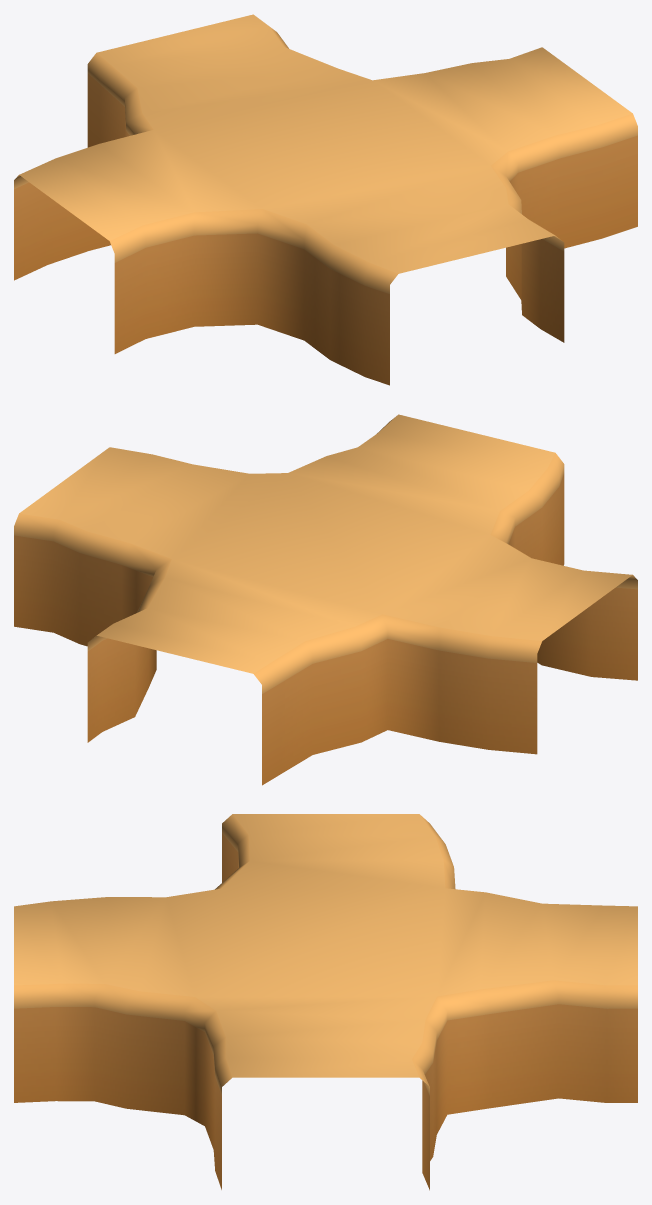
Rendered from Cross Junction 02.FBX.
3 views of the same model, one above another, from view 1: azimuth 30°, elevation 25°; view 2: azimuth 150°, elevation 25°; view 3: azimuth 270°, elevation 25° (orthographic). The views are drawn at different scales.
Visible parts, largest first — view 1: Cross Junction 02; view 2: Cross Junction 02; view 3: Cross Junction 02.
Part boxes in pixels (bbox=[...]): Cross Junction 02: bbox=[14, 14, 637, 385]; Cross Junction 02: bbox=[14, 414, 637, 785]; Cross Junction 02: bbox=[14, 814, 637, 1190].
Size of the model in its own units: 1500 by 300 by 1500.
Materials: 1 (1 with a texture image).
